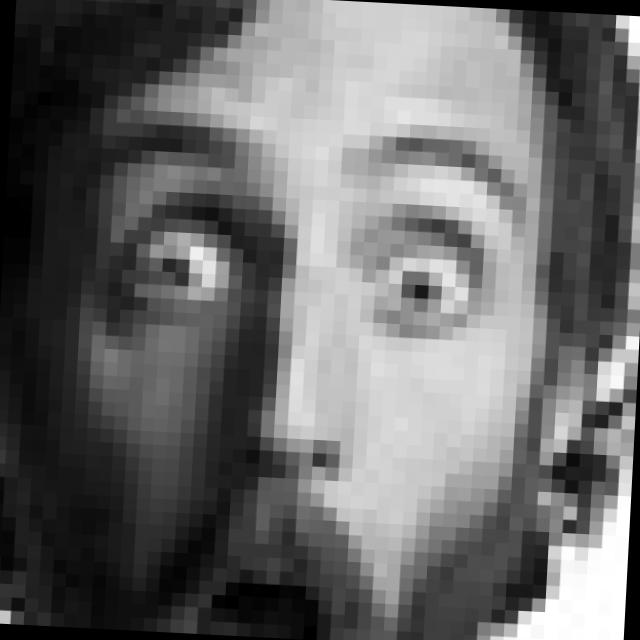surprise: (70, 105, 531, 640)
